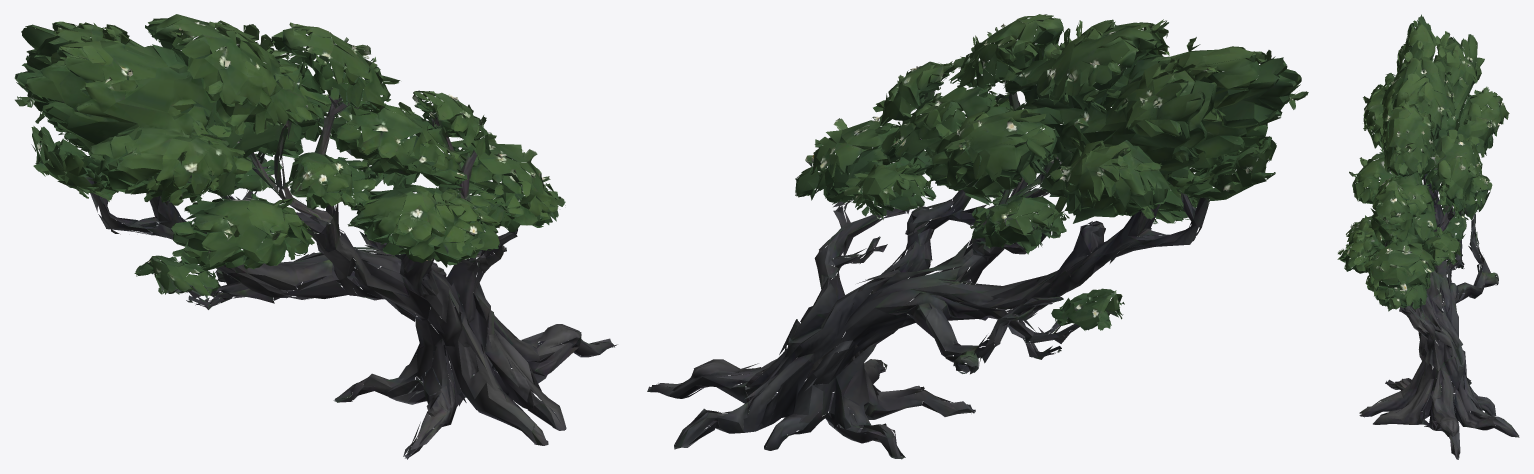
Rendered from tree.glb.
3 views of the same model, side by side, from view 1: azimuth 30°, elevation 25°; view 2: azimuth 150°, elevation 25°; view 3: azimuth 270°, elevation 25° (orthographic). The views are drawn at different scales.
Visible parts, largest first — view 1: Mesh_0; view 2: Mesh_0; view 3: Mesh_0.
Part boxes in pixels (left/top/right/bottom): Mesh_0: left=14, top=14, right=617, bottom=459; Mesh_0: left=647, top=14, right=1308, bottom=459; Mesh_0: left=1337, top=14, right=1519, bottom=459.
Bounding box in the file's own units: 9.21 × 6.5 × 3.94.
1 material, 1 textured.
